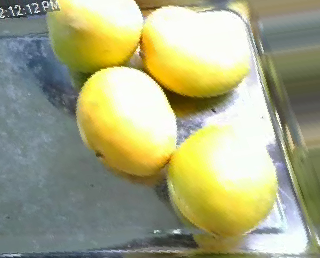Mango: (164, 122, 276, 238), (75, 66, 174, 178), (141, 6, 250, 100), (44, 1, 141, 71)
